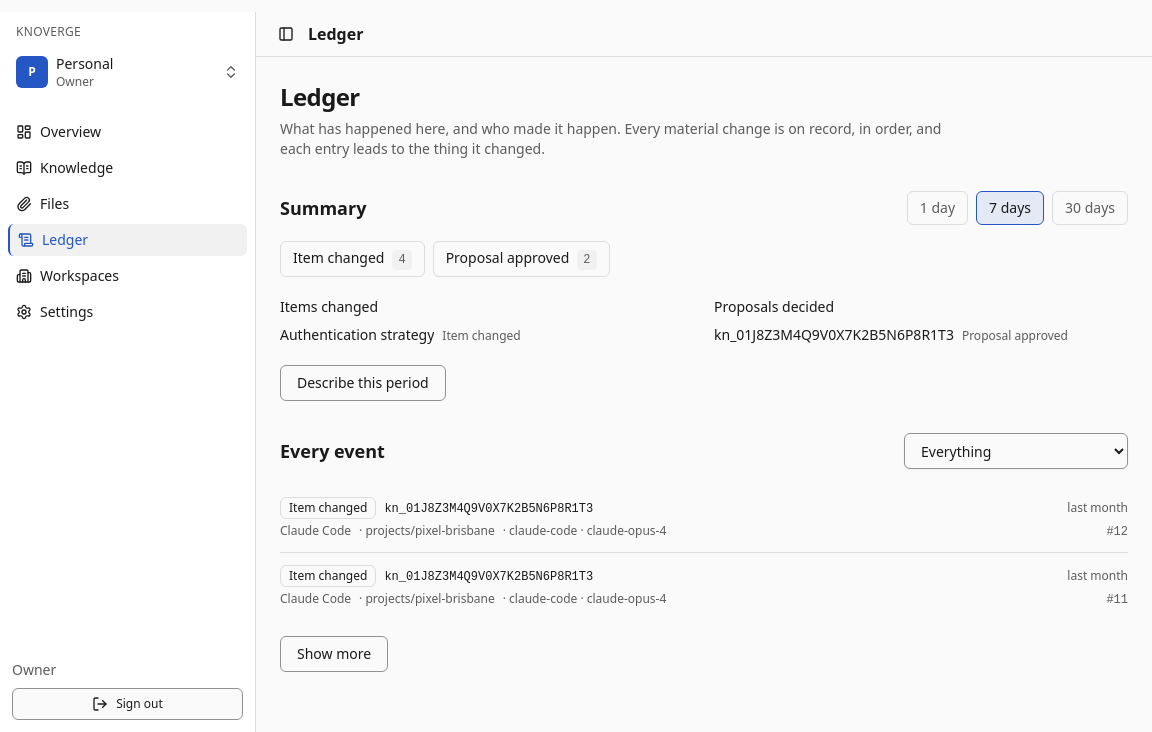
Test: the summary band › shows the prose and which model wrote it
Click the button "Describe this period".
click(363, 383)  # box [280,365,446,401]
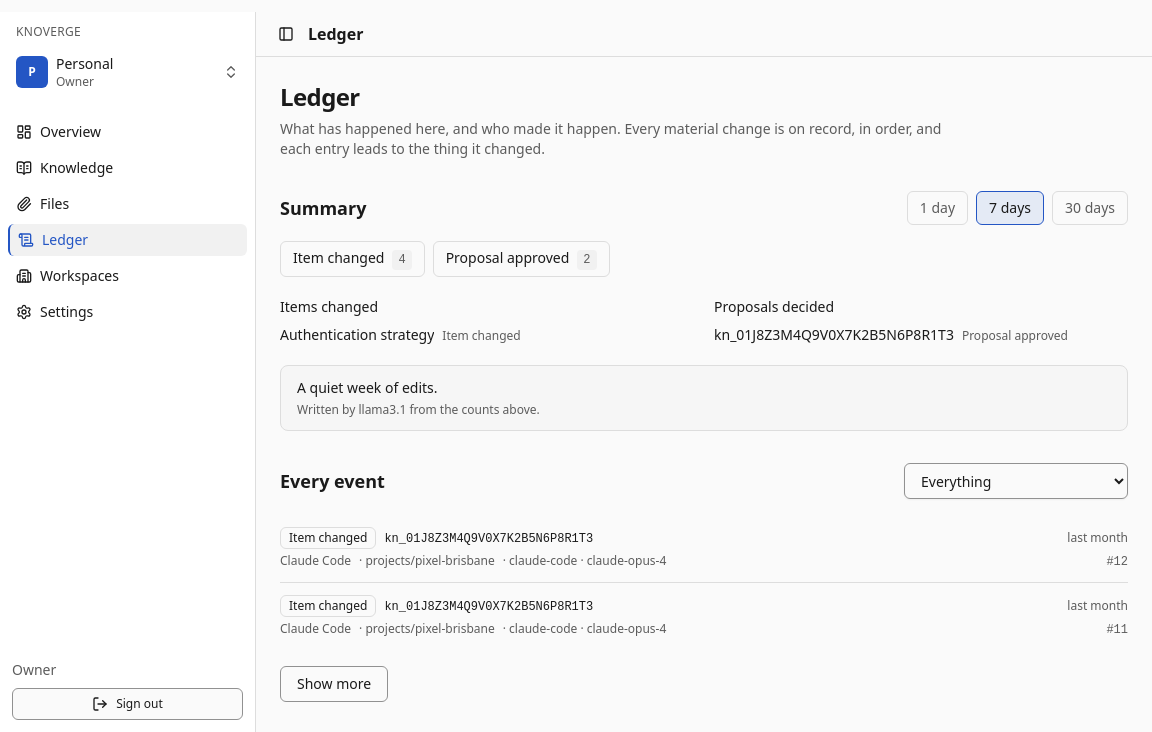
Expected: the text "A quiet week of edits." is shown, [297,378,438,397]
Expected: the text "Written by llama3.1 from the counts above." is shown, [297,401,540,418]
